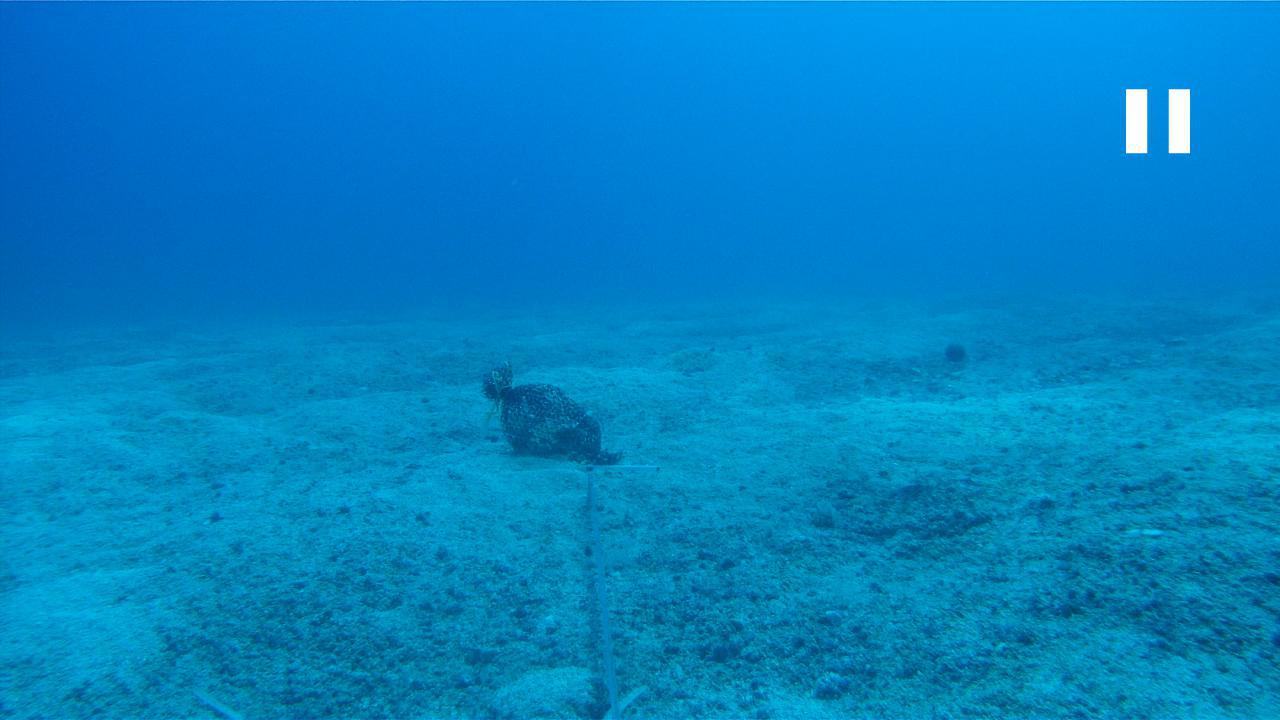bothus: (884, 432, 1008, 461)
